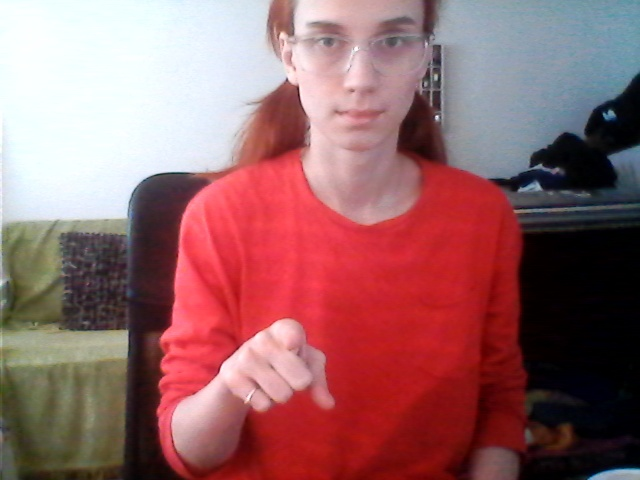ty: (190, 301, 357, 433)
